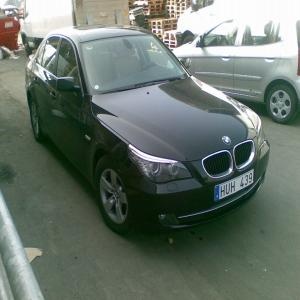Vehicle-registration-plate: (216, 169, 255, 202)
